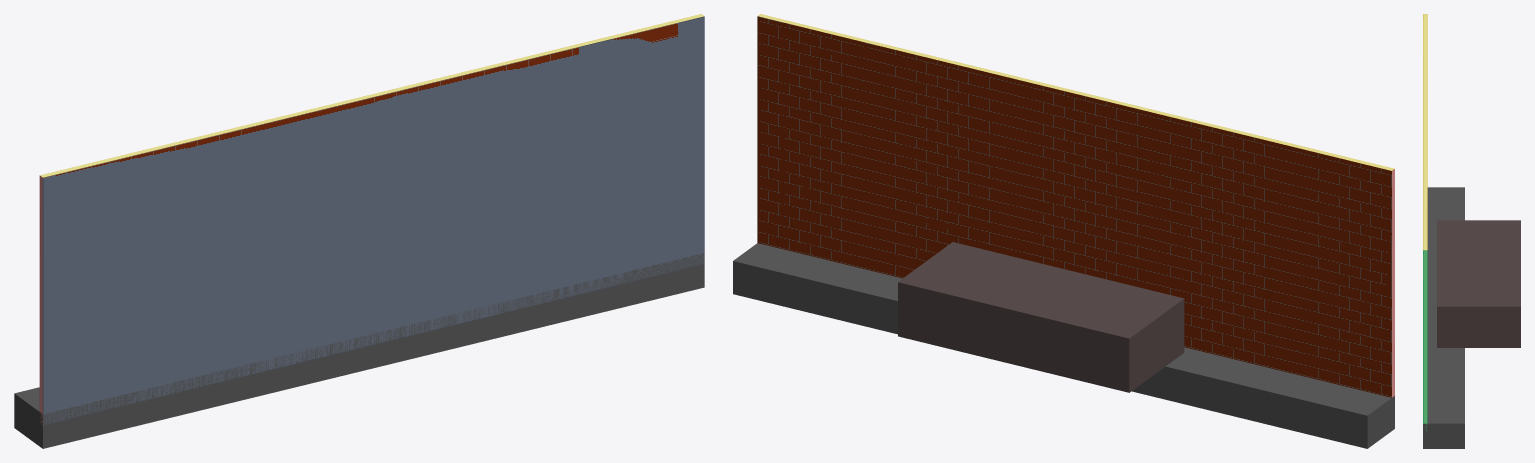
3 views of the same model, side by side, from view 1: azimuth 30°, elevation 25°; view 2: azimuth 150°, elevation 25°; view 3: azimuth 270°, elevation 25° (orthographic). The views are drawn at different scales.
Parts seen in each view (by area): view 1: plane, cube; view 2: plane, cube (×2); view 3: cube (×2), plane.
Boxes of the visible parts, x1,y1,x2,y2 form: plane: (39, 14, 704, 425); cube: (14, 253, 704, 448); plane: (757, 14, 1394, 397); cube (×2): (733, 242, 1394, 448); cube (×2): (1423, 187, 1520, 448); plane: (1423, 14, 1427, 431).
Bounding box in the file's own units: 120 × 47 × 21.
Materials: 3 (3 with a texture image).
